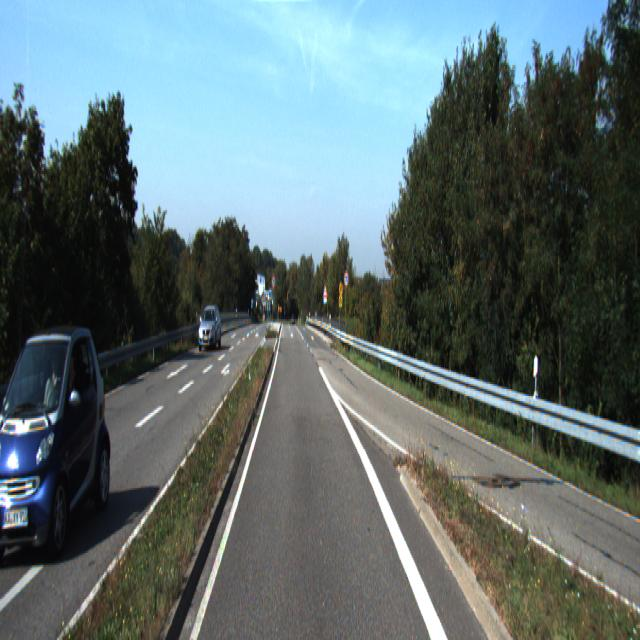Car: (0, 324, 117, 556), (195, 304, 222, 352)
